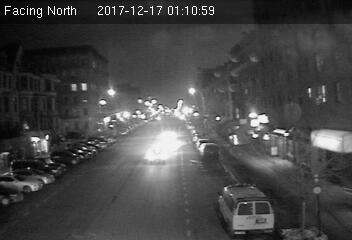police: (216, 182, 277, 238)
